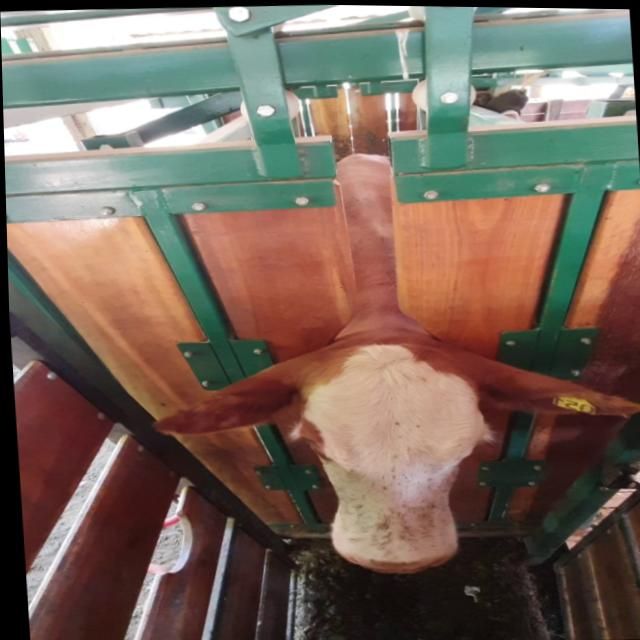cowFace: (289, 337, 495, 578)
